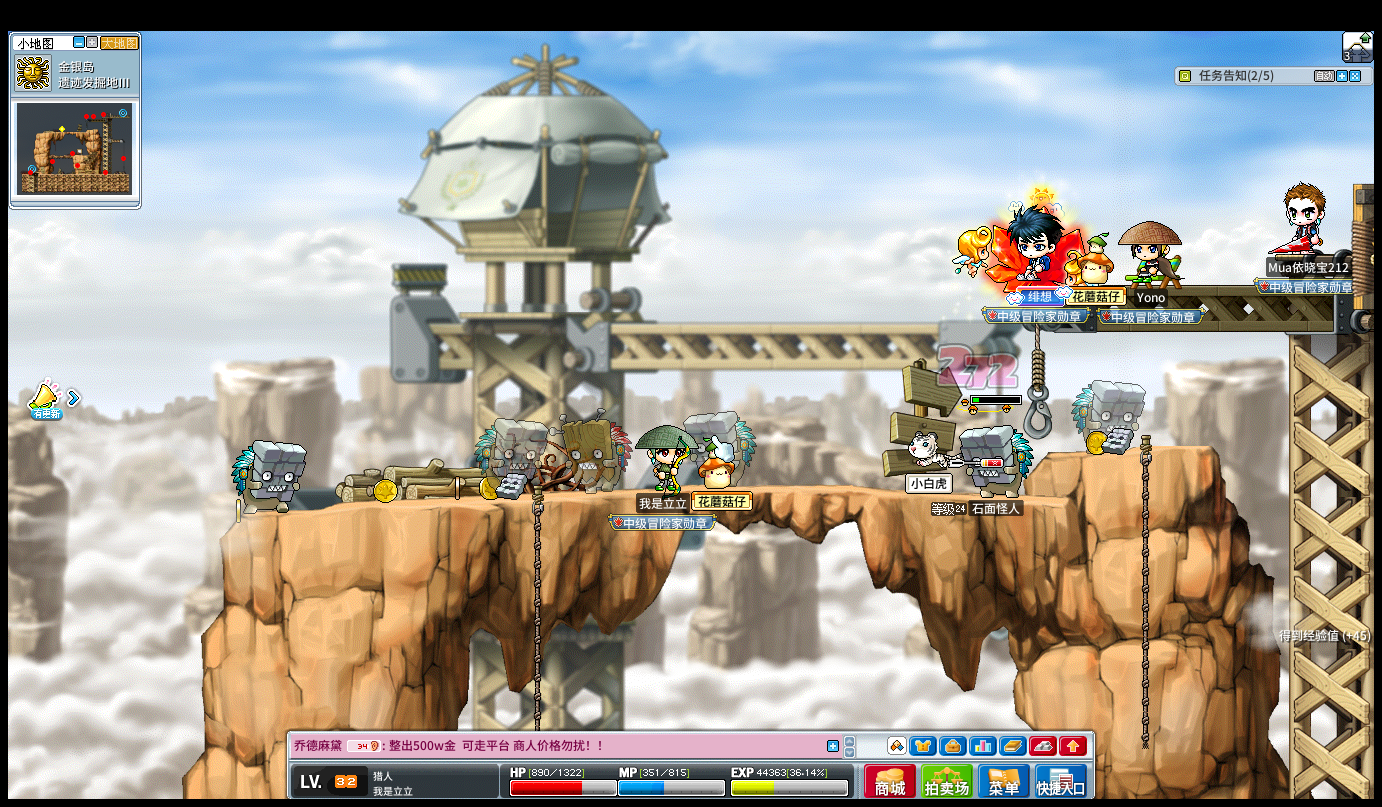floor: (241, 479, 1113, 510), (1049, 444, 1217, 459)
monster: (472, 417, 546, 501), (1071, 378, 1147, 456), (558, 412, 632, 492), (230, 439, 307, 515), (961, 424, 1034, 496)
rope: (1137, 434, 1152, 752), (529, 486, 542, 684)
